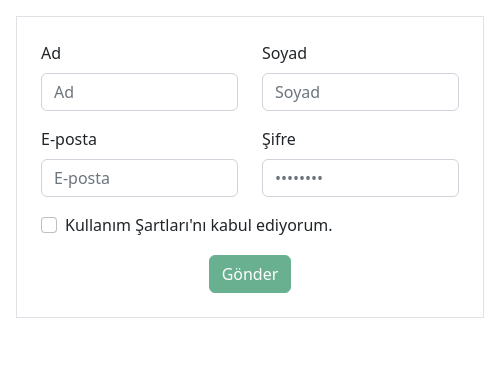
Test case: Form Testi › Şifre girdisi hata kontrolü
Type "johNdOe" into the password field with test id "sifre".
click(361, 178); type("johNdOe")  # box left=262, top=159, right=459, bottom=197
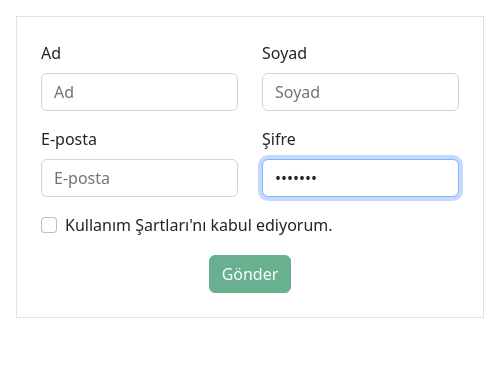
Clear the password field with test id "sifre" at (361, 178), box left=262, top=159, right=459, bottom=197
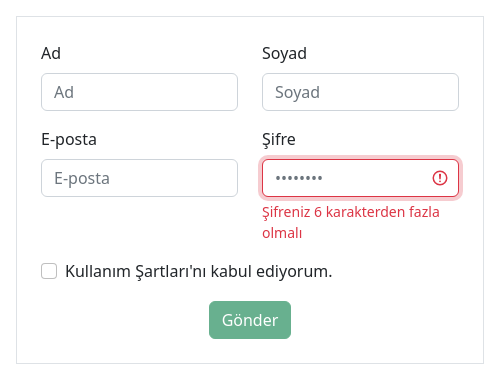
Expected: the text "Şifreniz 6 karakterden fazla olmalı" is shown, left=262, top=201, right=459, bottom=243
